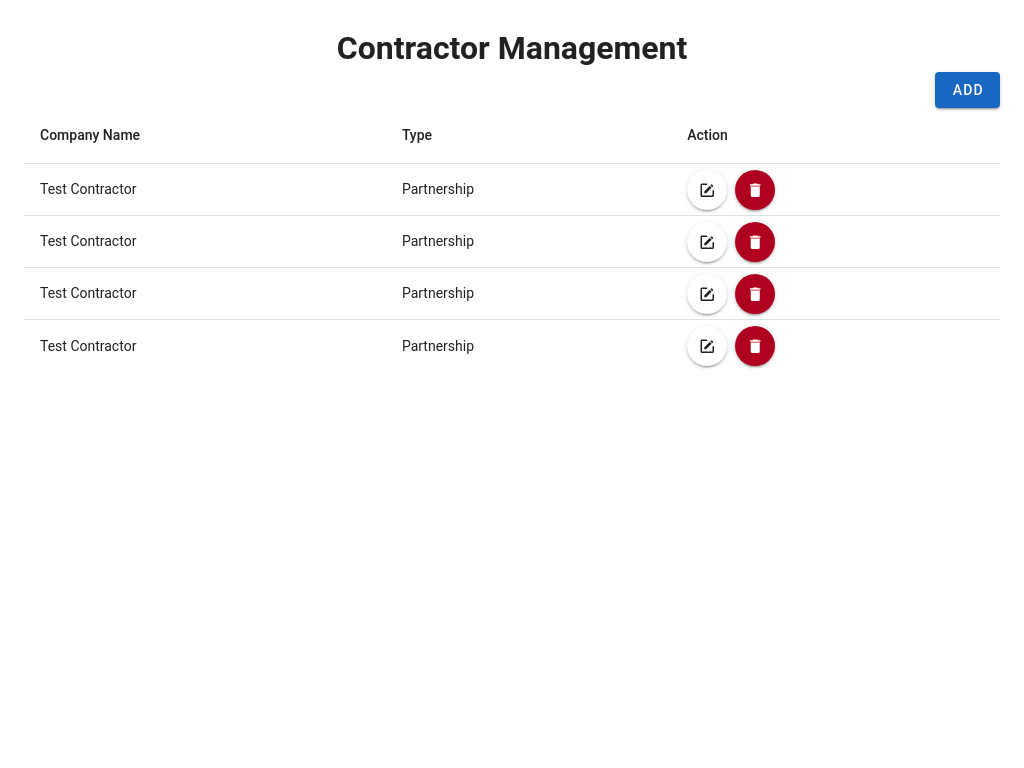
Contractor Management › Edit contractor
Click the 1st button with test id "edit-btn" at {"x": 707, "y": 190}, box [687,170,727,210]
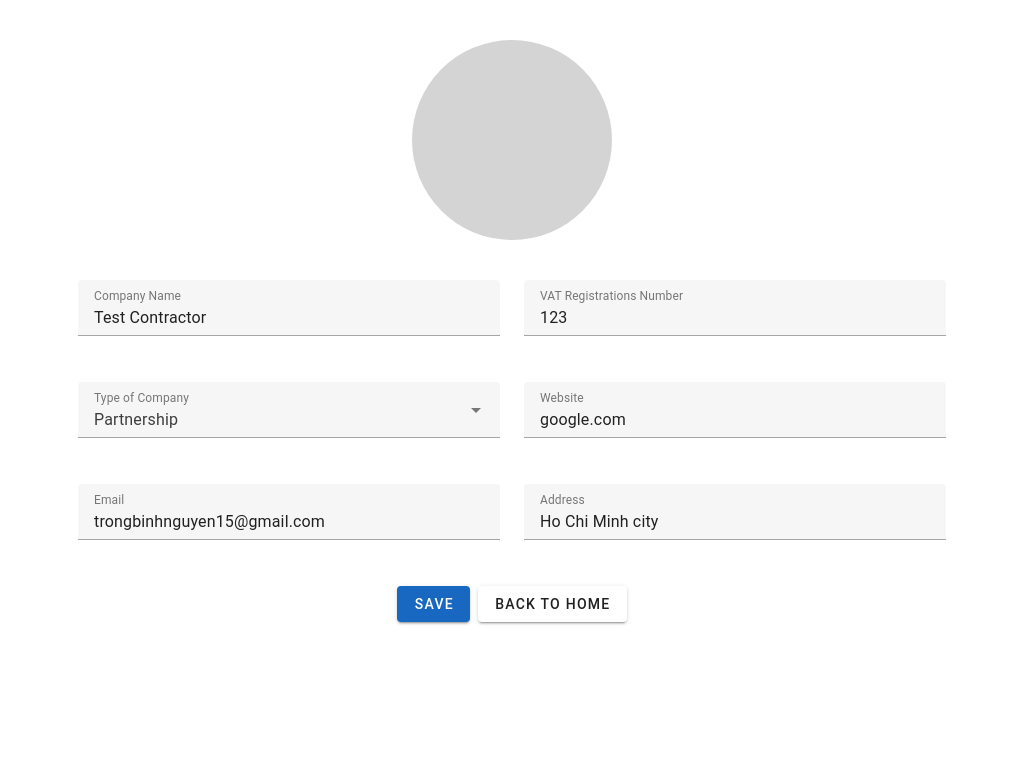
Clear the field labelled "Company Name" at {"x": 289, "y": 308}, box [78,280,500,336]
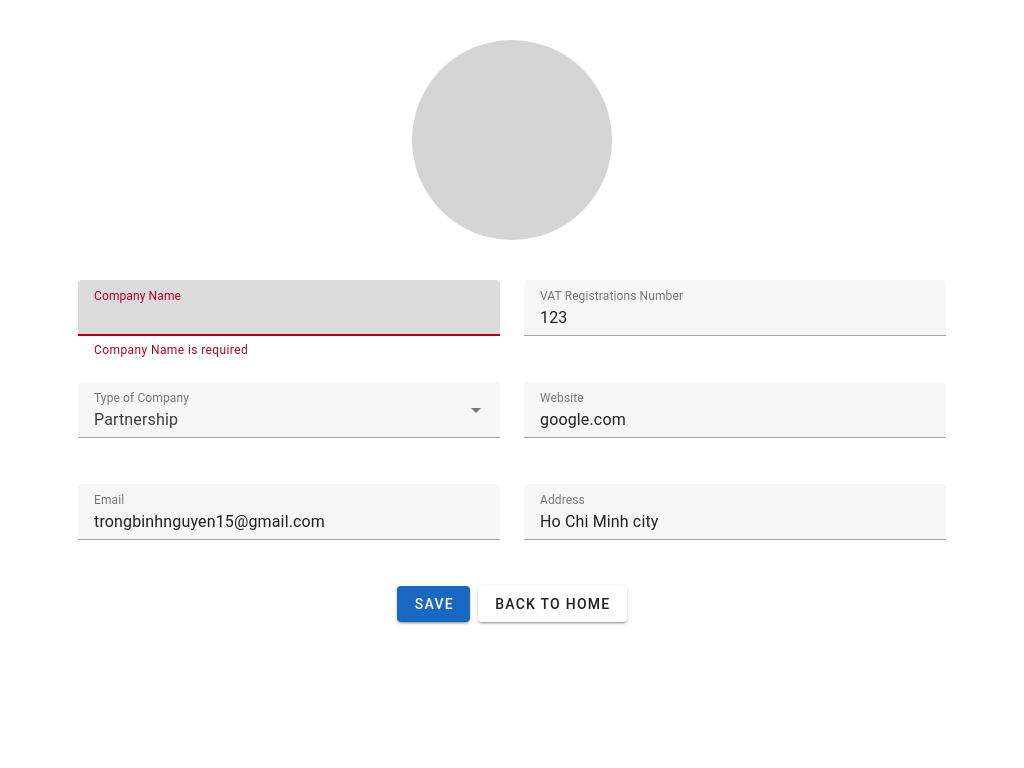
Type "New update Contractor" into the element with test id "companyName" at {"x": 289, "y": 319}, box [78,280,500,358]
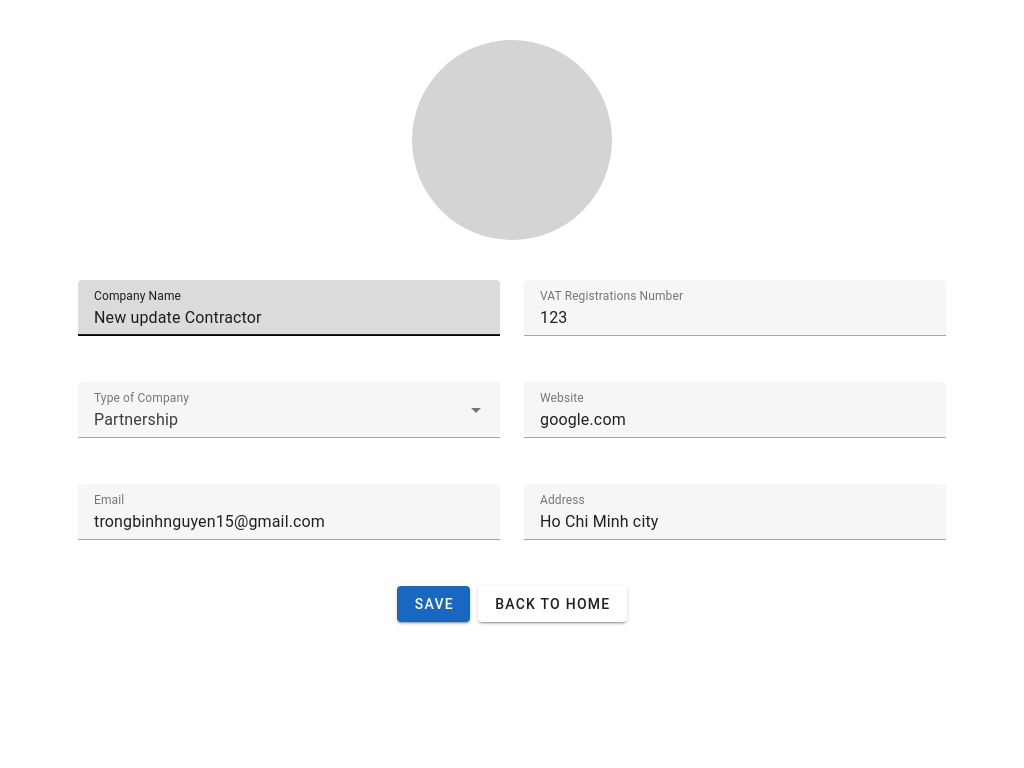
Click the button with test id "submit-btn" at {"x": 435, "y": 604}, box [398,586,471,622]
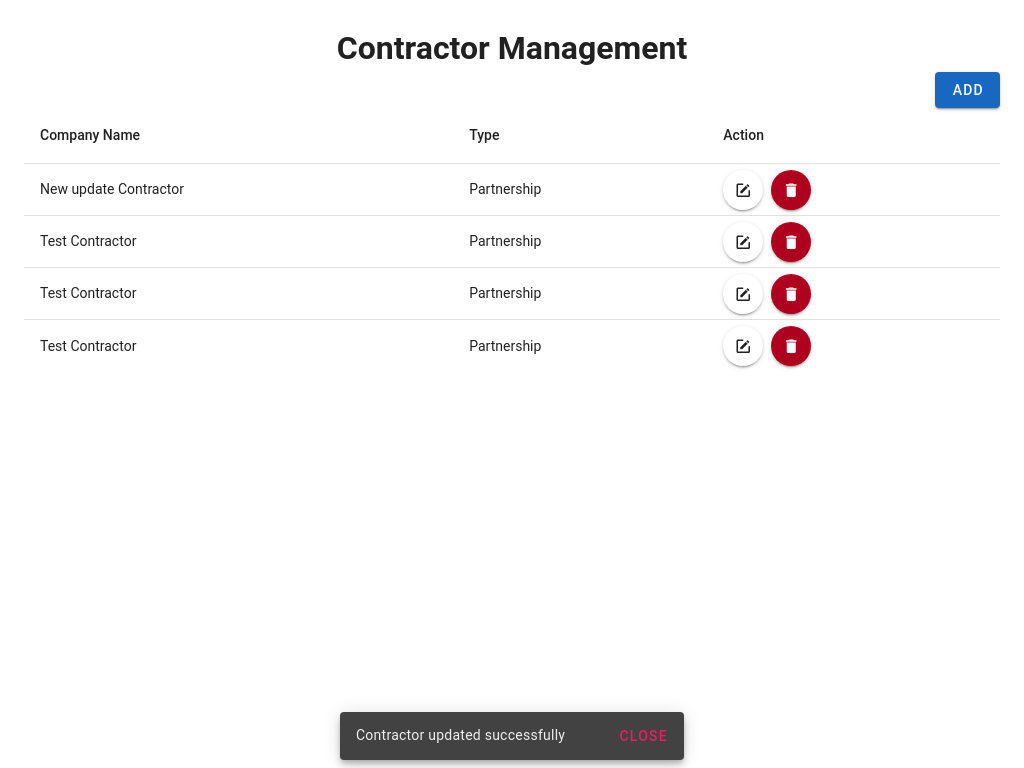
Now the text "New update Contractor" is shown, box [24,164,453,216]
